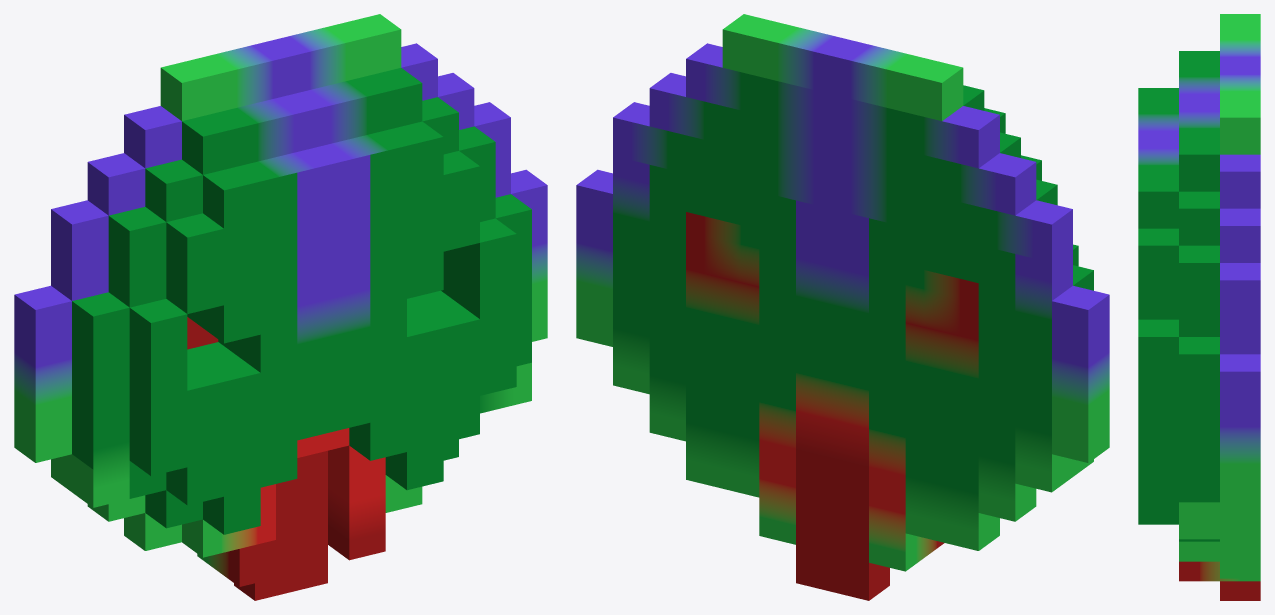
Rendered from Matrix_26.fbx.
3 views of the same model, side by side, from view 1: azimuth 30°, elevation 25°; view 2: azimuth 150°, elevation 25°; view 3: azimuth 270°, elevation 25° (orthographic). The views are drawn at different scales.
Visible parts, largest first — view 1: Matrix_26; view 2: Matrix_26; view 3: Matrix_26.
Part boxes in pixels (bbox=[...]): Matrix_26: bbox=[14, 14, 547, 600]; Matrix_26: bbox=[576, 14, 1109, 600]; Matrix_26: bbox=[1138, 14, 1260, 600].
Bounding box in the file's own units: 14 × 14 × 3.
